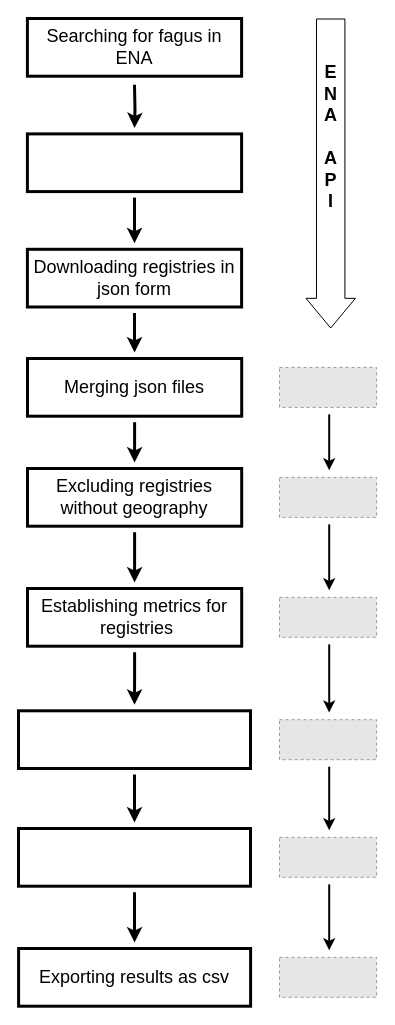
Some shapes in this 395 by 1025 pixel diagram are drawn without their labels. Grey dashed boxes stand in for pictures. Each missing label, with the centre of its shape:
Curating for country abcence: point (134, 739)
Curating for country validation: point (134, 856)
Using advanced search tool for: point (134, 162)
